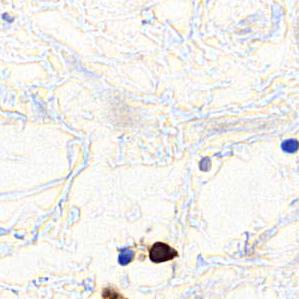Lymphocyte: (148, 240, 181, 266)
